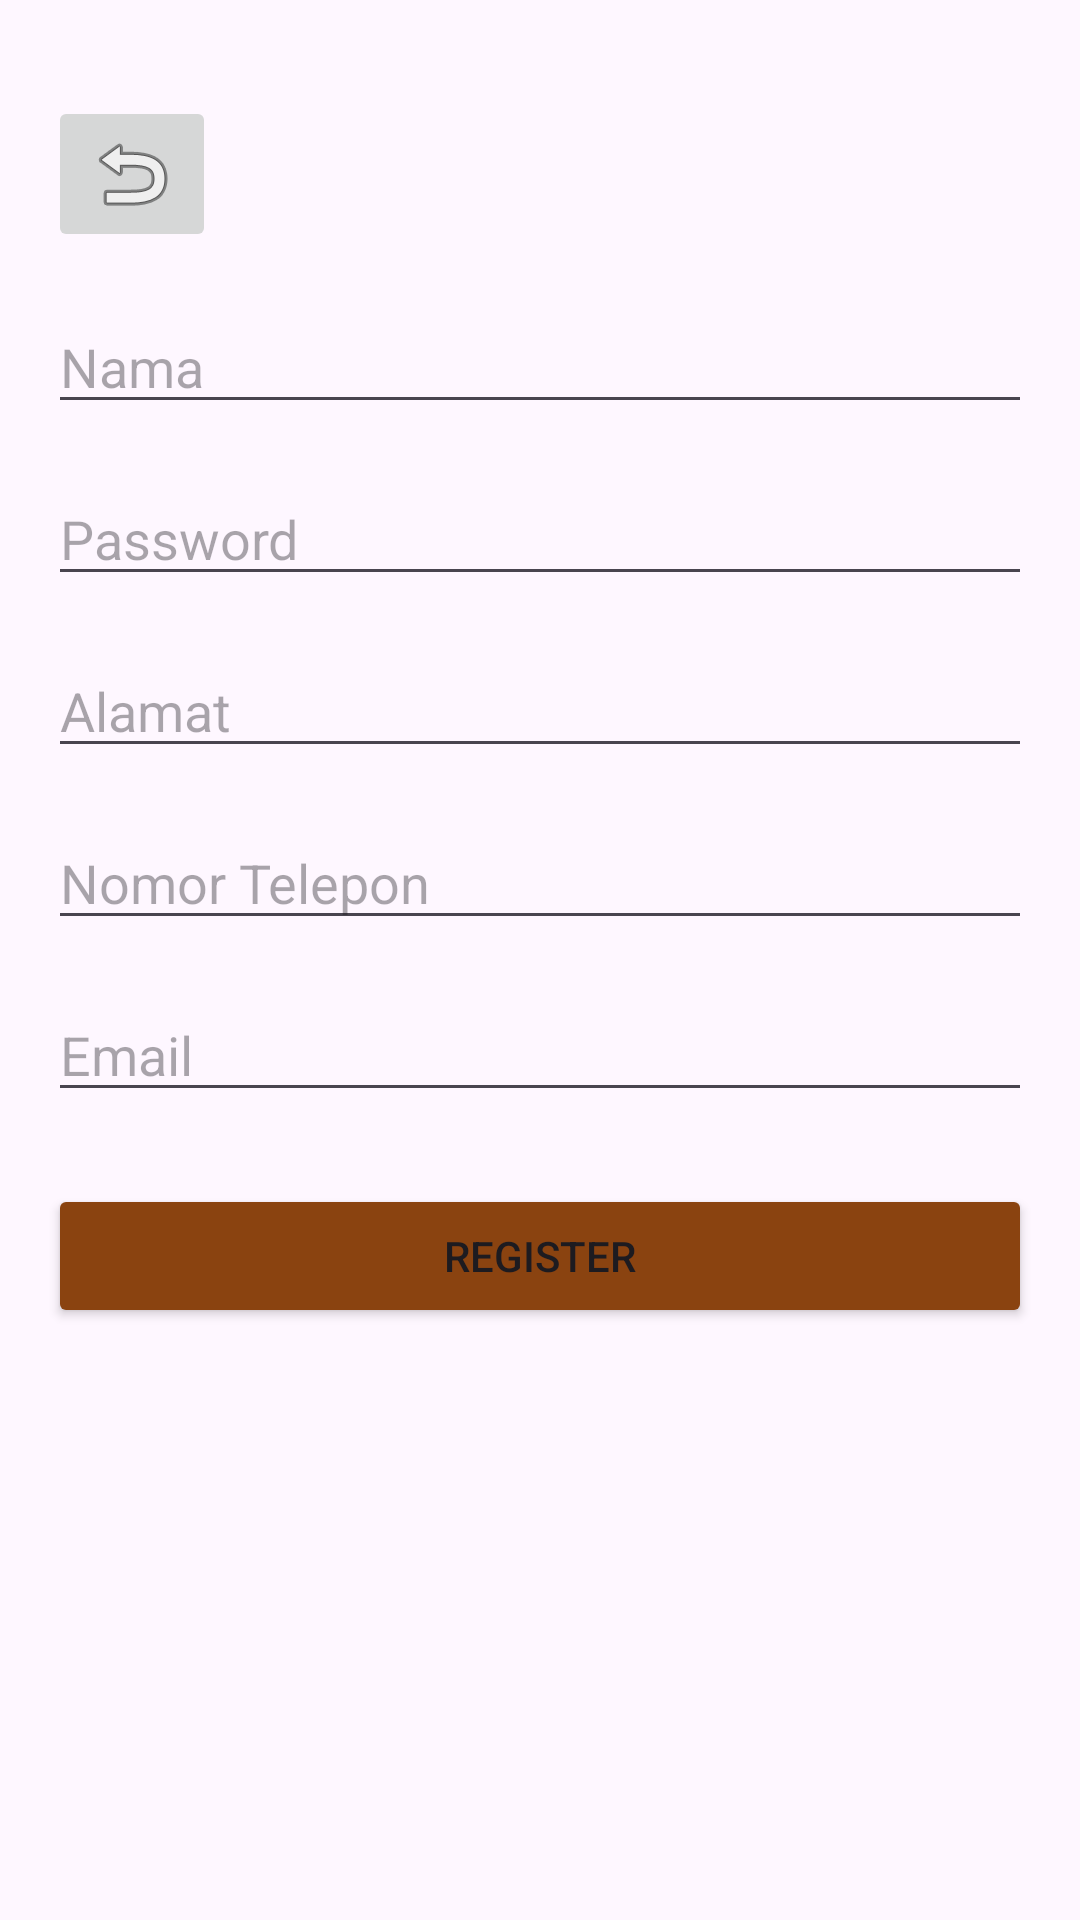

Where icons sit on this 1080px x 1920px app screen, as (x1, y1, x2, y2):
Back Button: (60, 114, 204, 234)
